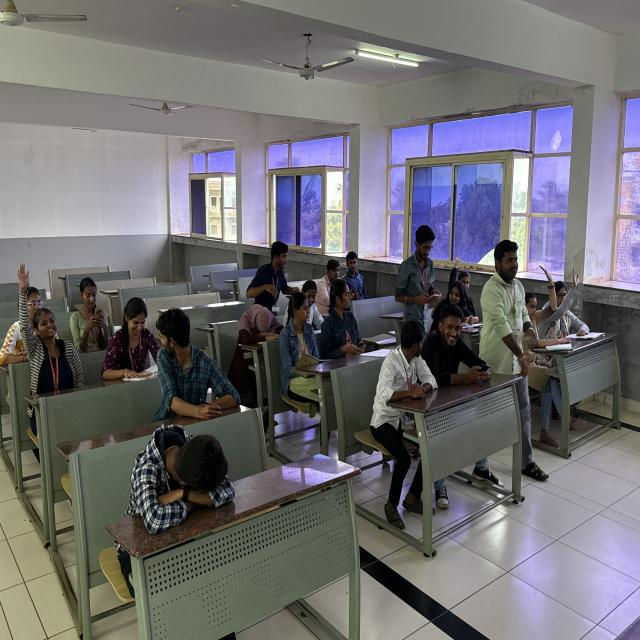Hand Rising: (16, 260, 87, 462), (524, 269, 588, 439), (434, 260, 471, 330)
Sleeping: (116, 426, 235, 611), (226, 302, 275, 421)
Using Phone: (419, 302, 494, 381), (100, 296, 162, 382)
